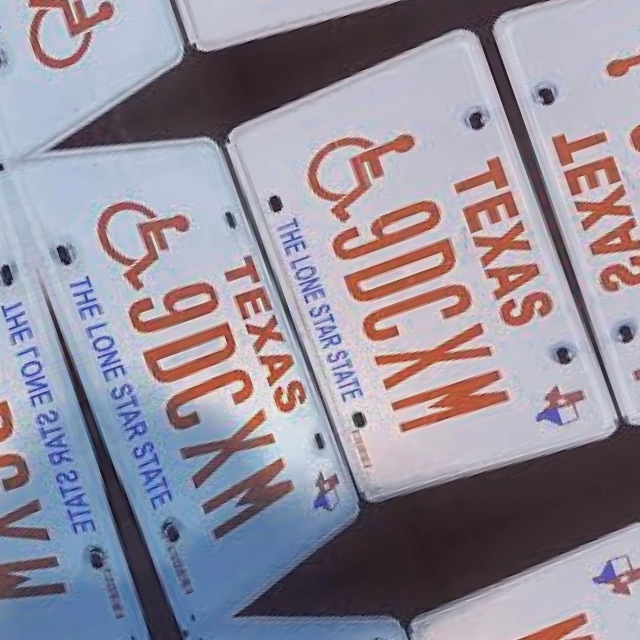ISA: (288, 113, 432, 232), (87, 182, 205, 298), (9, 0, 127, 76), (598, 4, 640, 123)
